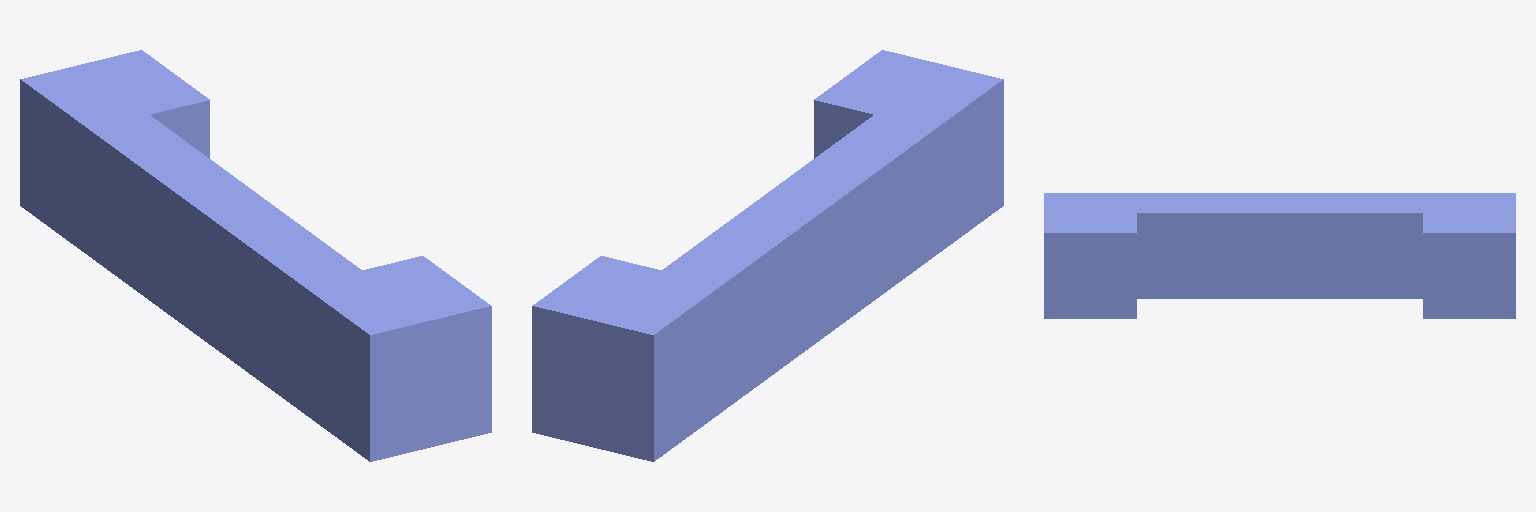
The robot description file, URDF, robot "obj_11":
<robot name="obj_11" version="1.0">
  <link name="obj_11_link">
    <collision name="obj_11_collision_1">
      <origin rpy="3.14159 1.57080 3.14159" xyz="-2.12749 0.74246 1.51073"/>
      <geometry>
        <mesh filename="../meshes/obj/Cube.032.obj" scale="1.00000 0.98000 1.00000"/>
      </geometry>
    </collision>
    <collision name="obj_11_collision_2">
      <origin rpy="3.14159 1.57080 3.14159" xyz="-2.12749 3.75762 1.51116"/>
      <geometry>
        <mesh filename="../meshes/obj/Cube.033.obj" scale="1.00000 0.98000 1.00000"/>
      </geometry>
    </collision>
    <collision name="obj_11_collision_3">
      <origin rpy="3.14159 1.57080 3.14159" xyz="-2.31509 2.24870 1.51051"/>
      <geometry>
        <mesh filename="../meshes/obj/Cube.034.obj" scale="2.00000 6.08000 1.00000"/>
      </geometry>
    </collision>
    <inertial>
      <inertia ixx="6.65506" ixy="0.00000" ixz="-0.00000" iyy="0.48424" iyz="-0.00000" izz="6.58953"/>
      <origin rpy="0.00000 0.00000 0.00000" xyz="-2.21000 2.25000 1.51000"/>
      <mass value="5.00000"/>
    </inertial>
    <visual name="obj_11">
      <material name="turnaxis"/>
      <origin rpy="3.14159 1.57080 3.14159" xyz="-2.21000 2.25000 1.51000"/>
      <geometry>
        <mesh filename="../meshes/obj/luban-lock-sliding.010.obj" scale="0.05000 0.05000 0.05000"/>
      </geometry>
    </visual>
  </link>
  <material name="turnaxis">
    <color rgba="0.63922 0.70196 1.00000 1.00000"/>
  </material>
</robot>

--- What the picture shows (computed from the rendered views, not written in the file) ---
3 views of the same robot in one strip: view 1: azimuth 30°, elevation 25°; view 2: azimuth 150°, elevation 25°; view 3: azimuth 270°, elevation 25° (orthographic).
Robot: obj_11 — 1 links, 0 joints (none); root link obj_11_link; default pose: every joint at zero.
Visible links, largest first — view 1: obj_11_link; view 2: obj_11_link; view 3: obj_11_link.
Boxes of the visible links, x1,y1,x2,y2 form: obj_11_link: [20, 50, 491, 461]; obj_11_link: [532, 50, 1003, 461]; obj_11_link: [1044, 193, 1515, 318].
Bounding box of the posed robot: 0.75 × 3.75 × 0.75 m (x, y, z).
Meshes: 1 distinct files referenced, 1 mesh visuals loaded (1 OBJ).